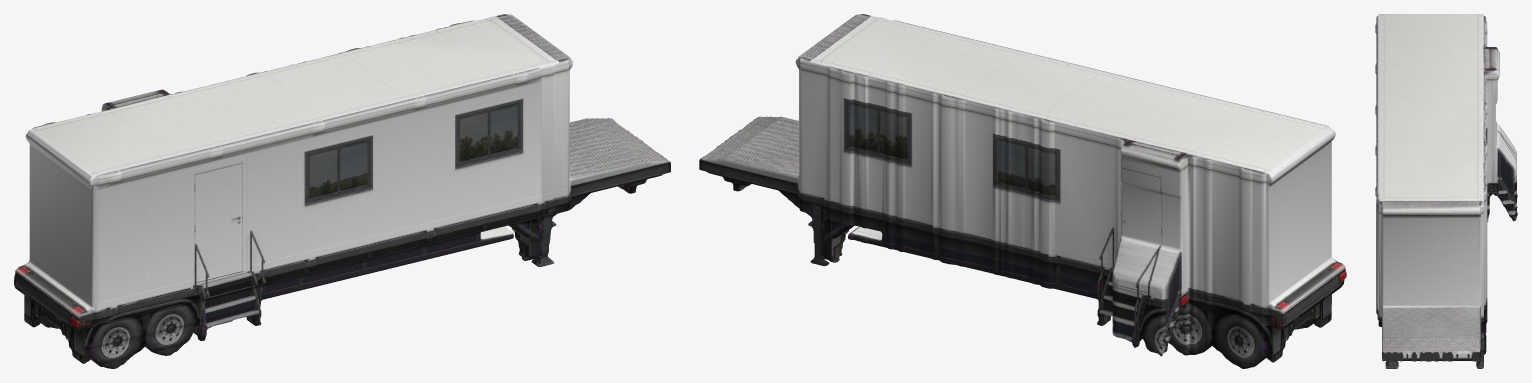
The model's file is caravan_mobile.glb.
3 views of the same model, side by side, from view 1: azimuth 30°, elevation 25°; view 2: azimuth 150°, elevation 25°; view 3: azimuth 270°, elevation 25° (orthographic). The views are drawn at different scales.
Parts seen in each view (by area): view 1: caravan; view 2: caravan; view 3: caravan.
Boxes of the visible parts, x1,y1,x2,y2 form: caravan: (14,14,670,368); caravan: (699,14,1346,368); caravan: (1375,14,1517,368).
Bounding box in the file's own units: 12.49 × 4.1 × 3.15.
1 material, 1 textured.
